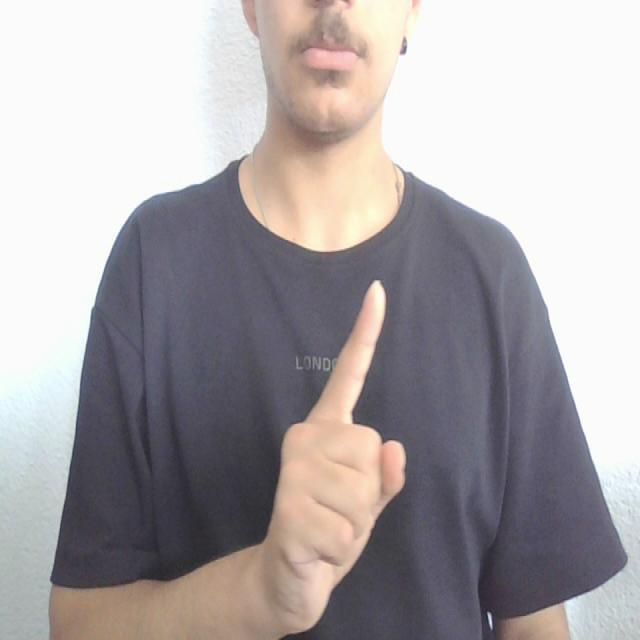Hayir: (237, 254, 407, 634)
